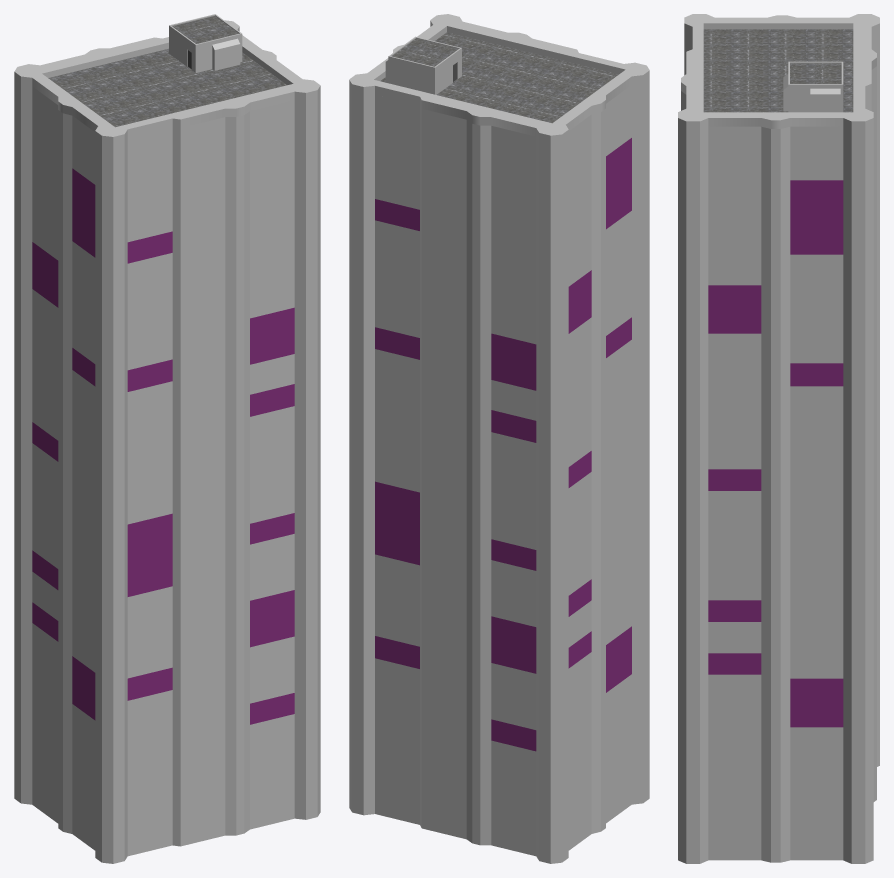
Rendered from mcp_building_03_distant.FBX.
3 renders of one model, left to right at view 1: azimuth 30°, elevation 25°; view 2: azimuth 150°, elevation 25°; view 3: azimuth 270°, elevation 25°, orthographic. The views are drawn at different scales.
Visible parts, largest first — view 1: mcp_building_03_walls_02, mcp_building_03_roof, mcp_building_03_concrete, mcp_building_03_walls_01; view 2: mcp_building_03_walls_02, mcp_building_03_roof, mcp_building_03_concrete, mcp_building_03_walls_01; view 3: mcp_building_03_walls_02, mcp_building_03_roof, mcp_building_03_concrete, mcp_building_03_walls_01.
Boxes of the visible parts, x1,y1,x2,y2 form: mcp_building_03_walls_02: [14, 80, 320, 863]; mcp_building_03_roof: [48, 16, 286, 127]; mcp_building_03_concrete: [14, 14, 320, 145]; mcp_building_03_walls_01: [169, 28, 242, 72]; mcp_building_03_walls_02: [349, 79, 649, 863]; mcp_building_03_roof: [380, 32, 619, 123]; mcp_building_03_concrete: [349, 14, 649, 144]; mcp_building_03_walls_01: [385, 50, 461, 94]; mcp_building_03_walls_02: [678, 32, 879, 863]; mcp_building_03_roof: [703, 29, 853, 112]; mcp_building_03_concrete: [678, 14, 879, 130]; mcp_building_03_walls_01: [783, 74, 843, 112].
Bounding box in the file's own units: 3757 × 12469 × 2983.
